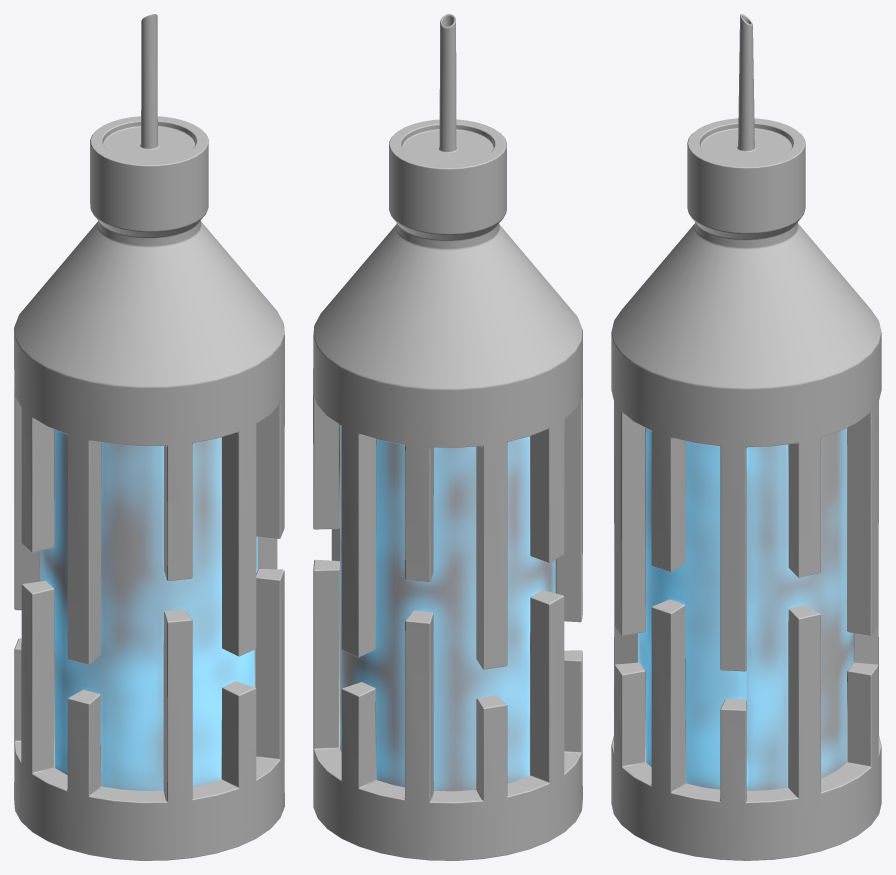
Rendered from SM_MedComponents-6.fbx.
3 views of the same model, side by side, from view 1: azimuth 30°, elevation 25°; view 2: azimuth 150°, elevation 25°; view 3: azimuth 270°, elevation 25° (orthographic).
Parts seen in each view (by area): view 1: SM_MedComponents-6_LOD0; view 2: SM_MedComponents-6_LOD0; view 3: SM_MedComponents-6_LOD0.
Boxes of the visible parts, <box> form: SM_MedComponents-6_LOD0: <box>14,14,284,860</box>; SM_MedComponents-6_LOD0: <box>313,14,582,860</box>; SM_MedComponents-6_LOD0: <box>611,14,881,860</box>.
Size of the model in its own units: 7.58 by 24.41 by 7.58.
